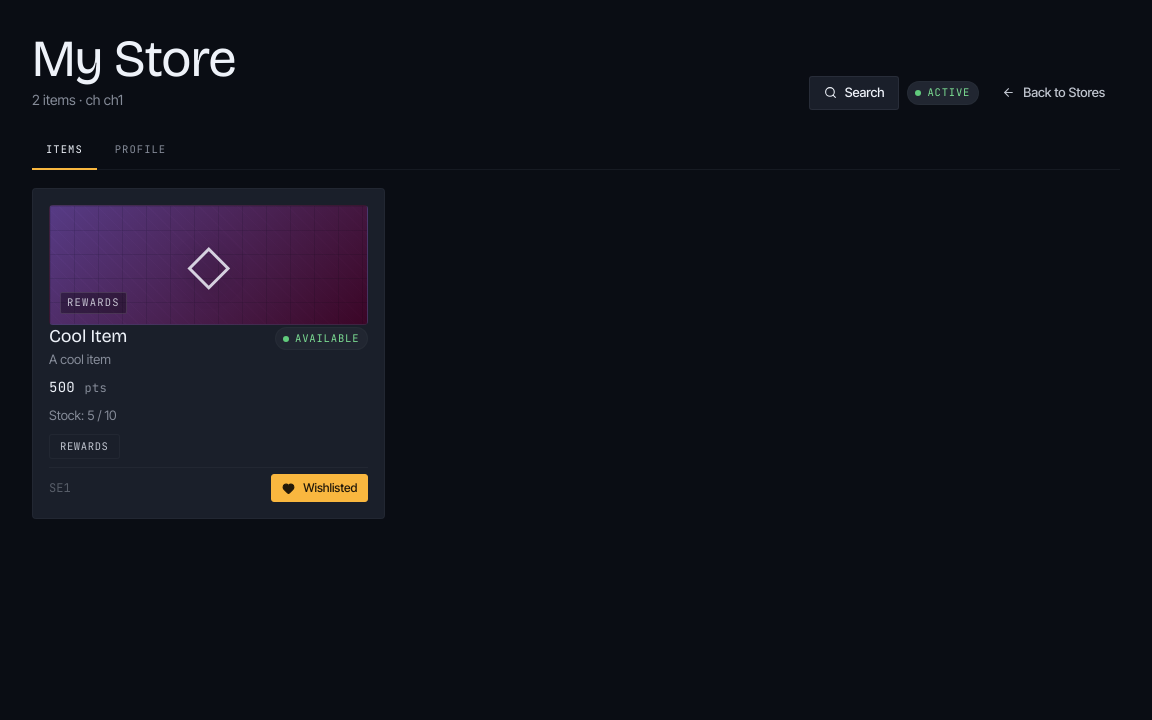
Test: StoreDetailPage — editing a wishlisted item › opens the edit modal and stays silent when the fetch succeeds
The width and height of the screenshot is (1152, 720).
Step 1. Click the button "Wishlisted" → (320, 488), box top-left (271, 474), bottom-right (368, 502)
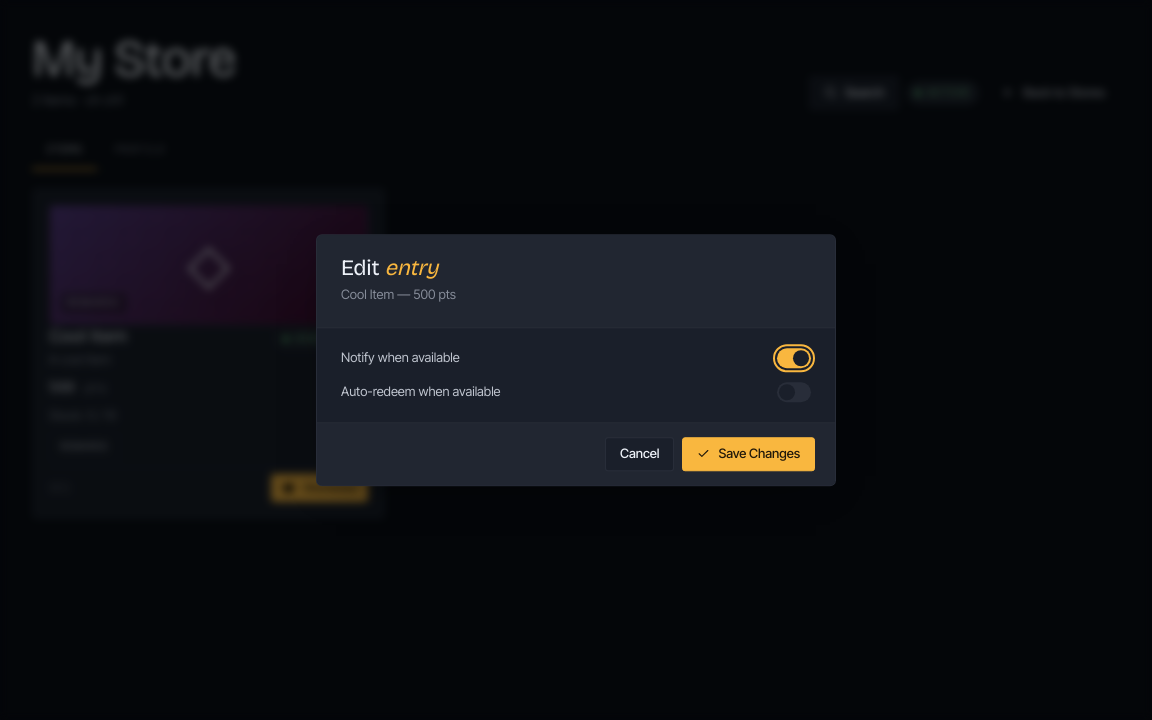
Result: the dialog is shown at top-left (316, 234), bottom-right (836, 486)
